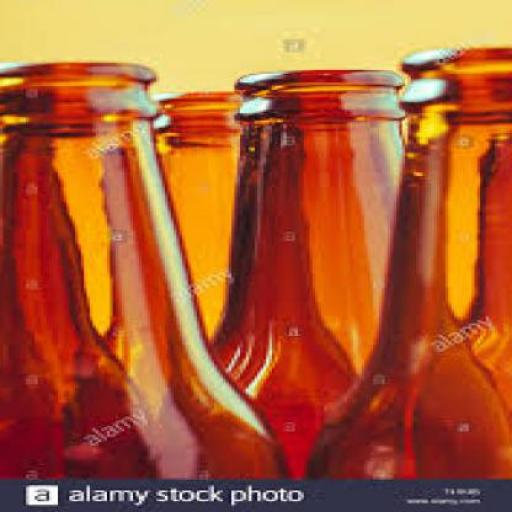glass: (0, 59, 284, 478), (301, 45, 509, 478), (208, 68, 405, 480), (148, 90, 254, 348)
